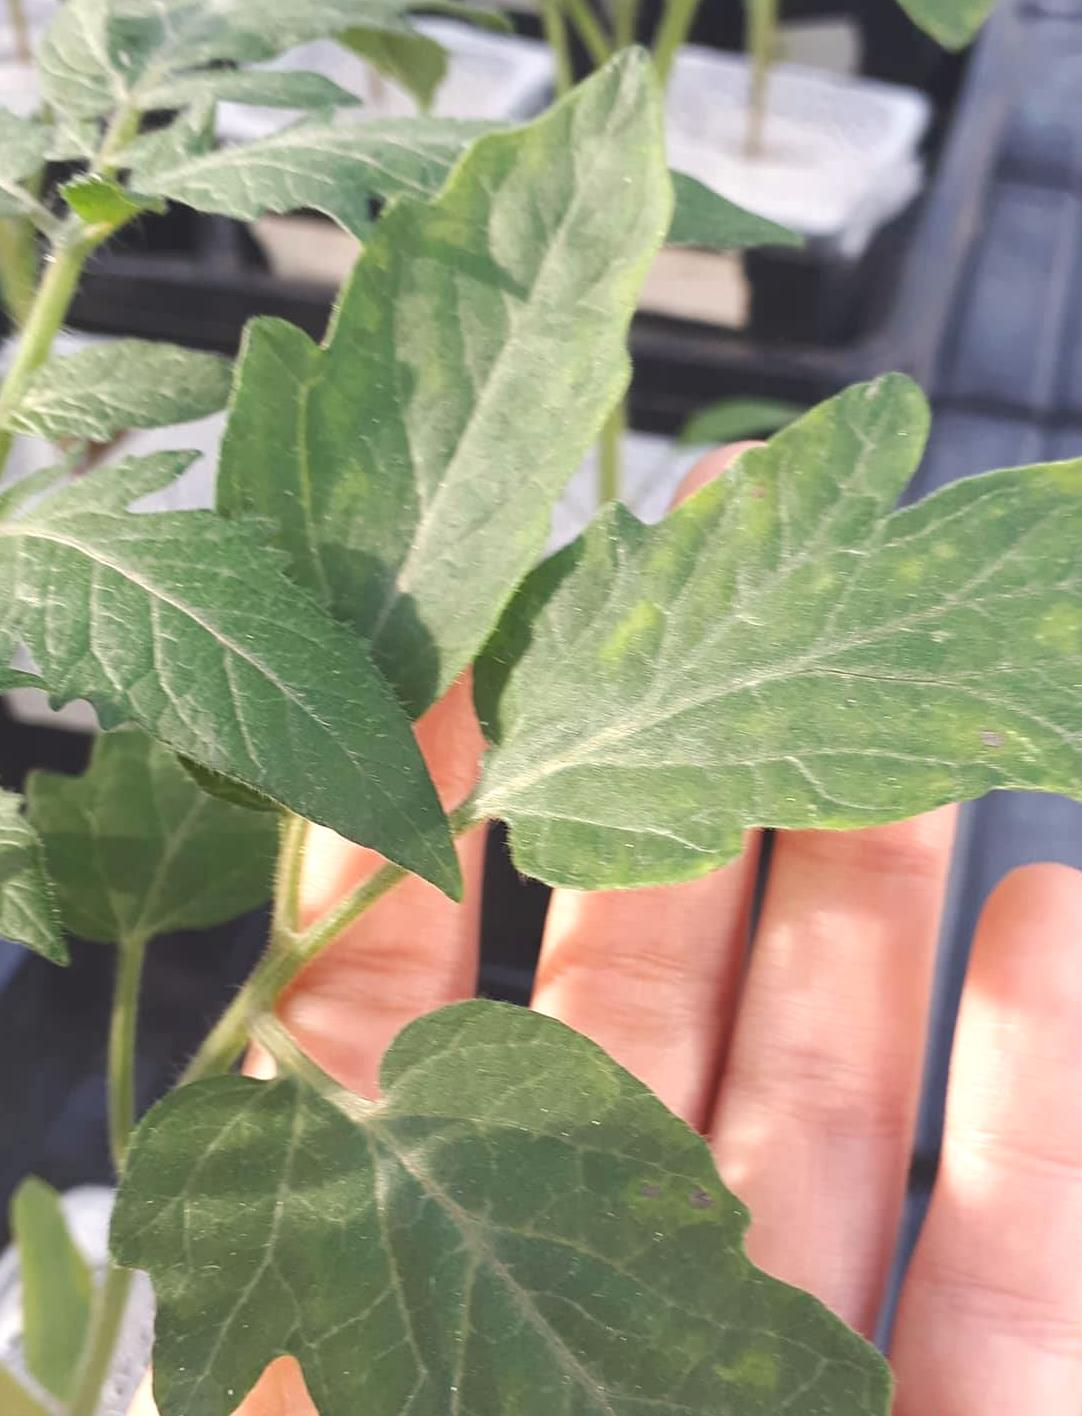Tomato mold leaf: (100, 976, 1035, 1416), (450, 347, 1082, 864), (0, 450, 472, 942)
